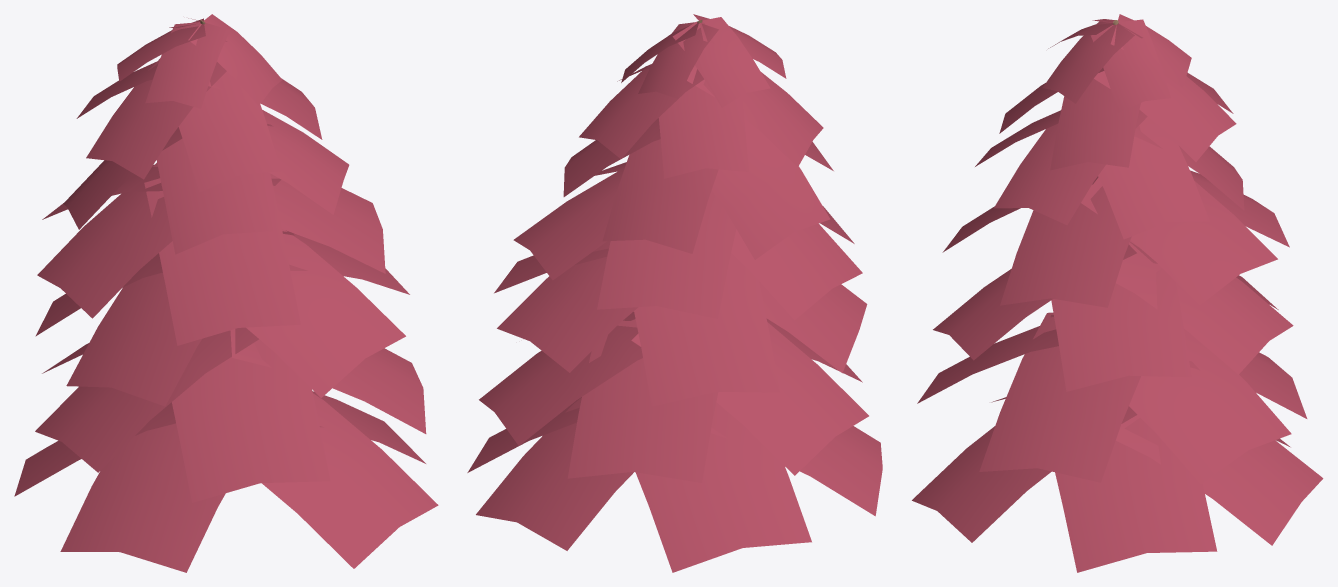
The model's file is Pine_2.glb.
The picture shows the model from 3 angles, left to right: view 1: azimuth 30°, elevation 25°; view 2: azimuth 150°, elevation 25°; view 3: azimuth 270°, elevation 25°; orthographic projection. The views are drawn at different scales.
Visible parts, largest first — view 1: Pine_2; view 2: Pine_2; view 3: Pine_2.
Boxes of the visible parts, x1,y1,x2,y2 form: Pine_2: (14,14,438,572); Pine_2: (467,14,882,572); Pine_2: (912,14,1323,572).
Size of the model in its own units: 6.61 by 8.34 by 6.78.
